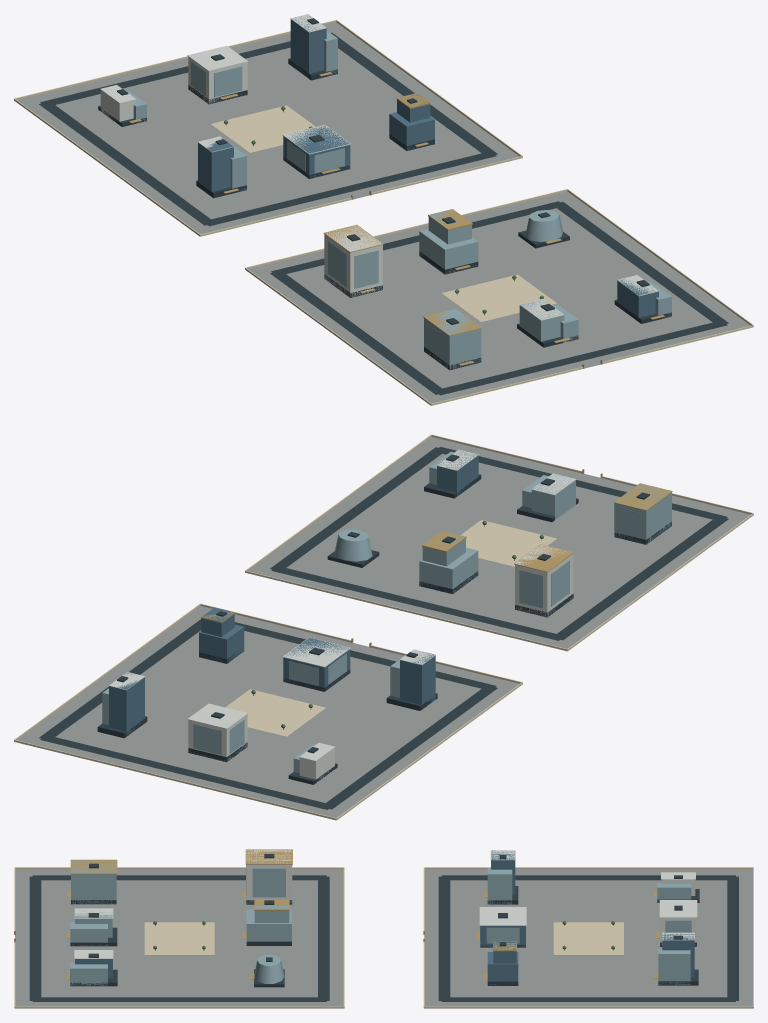
File: GC-TILE-13-16.glb
3 views of the same model, one above another, from view 1: azimuth 30°, elevation 25°; view 2: azimuth 150°, elevation 25°; view 3: azimuth 270°, elevation 25° (orthographic). The views are drawn at different scales.
Visible parts, largest first — view 1: GC-TILE-13-16-paving, GC-TILE-13-16-dark, GC-TILE-13-16-glass, GC-TILE-13-16-ivory, GC-TILE-13-16-blue, GC-TILE-13-16-white, GC-TILE-13-16-gold; view 2: GC-TILE-13-16-paving, GC-TILE-13-16-dark, GC-TILE-13-16-glass, GC-TILE-13-16-ivory, GC-TILE-13-16-blue, GC-TILE-13-16-white, GC-TILE-13-16-gold; view 3: GC-TILE-13-16-paving, GC-TILE-13-16-dark, GC-TILE-13-16-glass, GC-TILE-13-16-ivory, GC-TILE-13-16-white, GC-TILE-13-16-blue, GC-TILE-13-16-gold.
Part boxes in pixels (left/top/right/bottom): GC-TILE-13-16-paving: left=17, top=22, right=750, bottom=403; GC-TILE-13-16-dark: left=39, top=18, right=728, bottom=395; GC-TILE-13-16-glass: left=125, top=30, right=671, bottom=369; GC-TILE-13-16-ivory: left=14, top=20, right=753, bottom=405; GC-TILE-13-16-blue: left=198, top=14, right=658, bottom=317; GC-TILE-13-16-white: left=100, top=14, right=658, bottom=320; GC-TILE-13-16-gold: left=129, top=72, right=664, bottom=368; GC-TILE-13-16-paving: left=17, top=437, right=750, bottom=817; GC-TILE-13-16-dark: left=39, top=446, right=728, bottom=809; GC-TILE-13-16-glass: left=102, top=451, right=671, bottom=773; GC-TILE-13-16-ivory: left=14, top=434, right=753, bottom=820; GC-TILE-13-16-blue: left=109, top=450, right=478, bottom=735; GC-TILE-13-16-white: left=109, top=449, right=576, bottom=782; GC-TILE-13-16-gold: left=201, top=469, right=672, bottom=647; GC-TILE-13-16-paving: left=15, top=869, right=752, bottom=1006; GC-TILE-13-16-dark: left=29, top=854, right=738, bottom=1001; GC-TILE-13-16-glass: left=70, top=860, right=691, bottom=986; GC-TILE-13-16-ivory: left=14, top=867, right=753, bottom=1008; GC-TILE-13-16-white: left=74, top=849, right=697, bottom=958; GC-TILE-13-16-blue: left=75, top=850, right=694, bottom=985; GC-TILE-13-16-gold: left=14, top=849, right=659, bottom=979.
Size of the model in its own units: 339 by 48.51 by 760.
